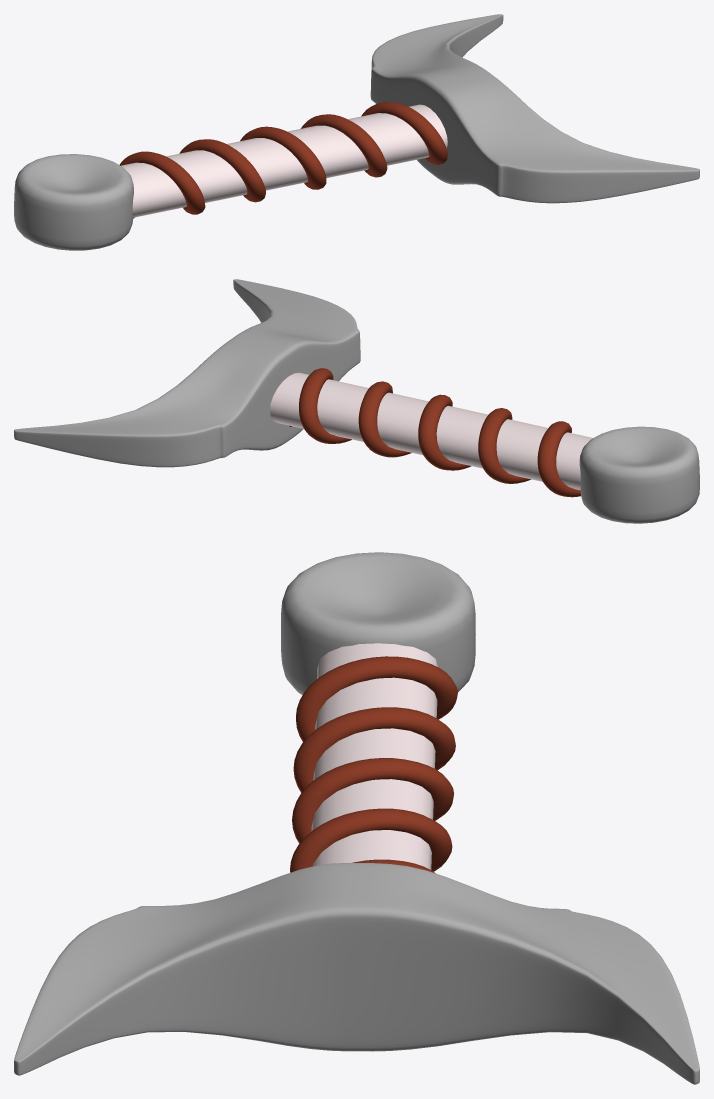
The model's file is sword_fbx.FBX.
The picture shows the model from 3 angles, top to bottom: view 1: azimuth 30°, elevation 25°; view 2: azimuth 150°, elevation 25°; view 3: azimuth 270°, elevation 25°; orthographic projection. The views are drawn at different scales.
Parts seen in each view (by area): view 1: efes, handle, circle, shell; view 2: efes, handle, circle, shell; view 3: efes, circle, shell, handle.
Part boxes in pixels (box(x1,y1,x2,y2)): efes: box(370, 14, 699, 203); handle: box(121, 104, 447, 217); circle: box(14, 154, 133, 250); shell: box(119, 102, 447, 218); efes: box(14, 279, 360, 467); handle: box(270, 372, 592, 489); circle: box(579, 426, 699, 523); shell: box(289, 368, 580, 497); efes: box(14, 863, 699, 1084); circle: box(281, 552, 475, 694); shell: box(290, 656, 457, 873); handle: box(311, 643, 437, 869).
Size of what is drawn, in the model's own units: 21.22 by 3.19 by 13.39.
